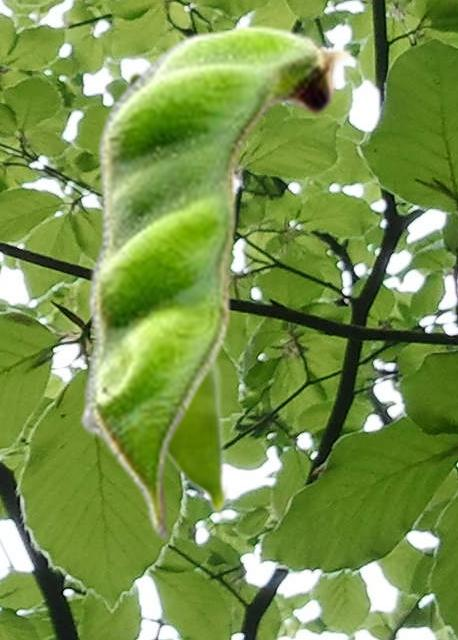pea: (78, 24, 353, 540), (121, 68, 230, 520)
